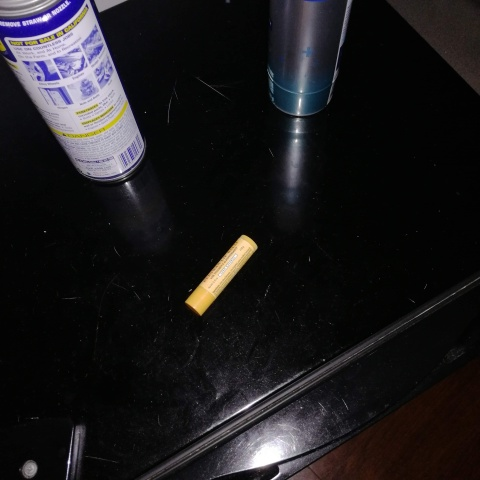chapstick: (183, 232, 258, 319)
